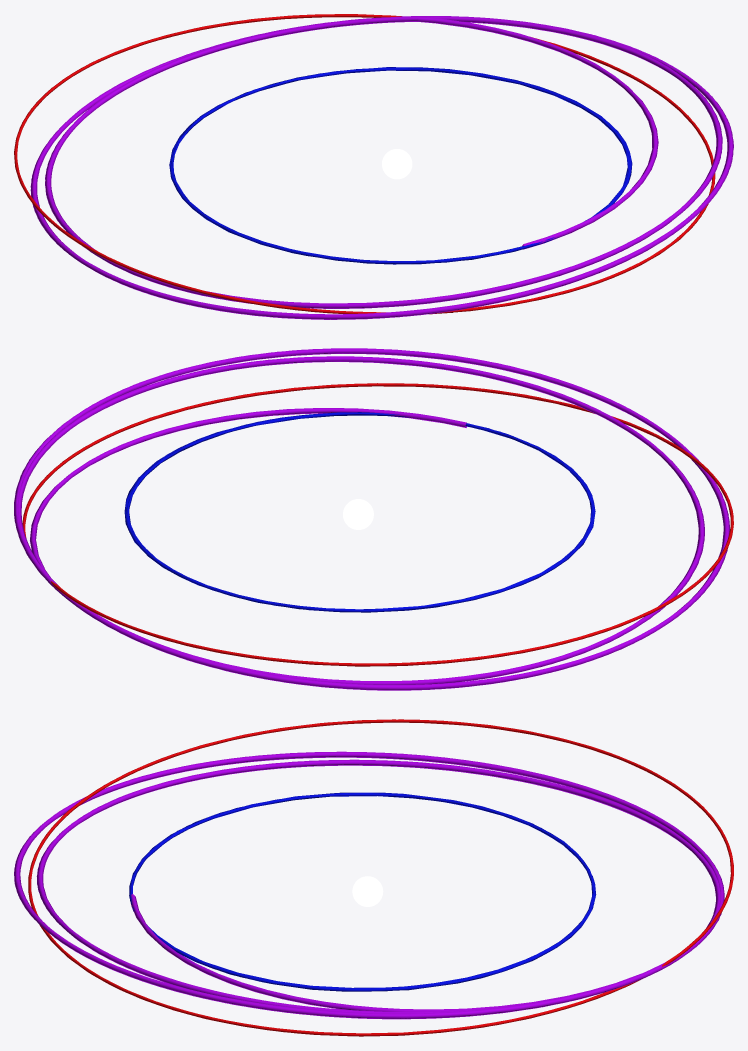
The model's file is RemusOrbitv2.glb.
3 renders of one model, top to bottom at view 1: azimuth 30°, elevation 25°; view 2: azimuth 150°, elevation 25°; view 3: azimuth 270°, elevation 25°, orthographic.
Visible parts, largest first — view 1: Remus Trajectory, Mars Trajectory, Earth Trajectory, Sphere; view 2: Remus Trajectory, Mars Trajectory, Earth Trajectory, Sphere; view 3: Remus Trajectory, Mars Trajectory, Earth Trajectory, Sphere.
Part boxes in pixels (x1,y1,x2,y2): Remus Trajectory: (30,16,733,319); Mars Trajectory: (14,14,715,314); Earth Trajectory: (169,67,632,264); Sphere: (382,149,412,179); Remus Trajectory: (14,348,729,690); Mars Trajectory: (22,383,733,666); Earth Trajectory: (124,412,595,612); Sphere: (343,499,373,529); Remus Trajectory: (14,751,724,1019); Mars Trajectory: (28,719,733,1036); Earth Trajectory: (129,792,596,991); Sphere: (352,876,383,906).
Bounding box in the file's own units: 467 × 34.09 × 465.
